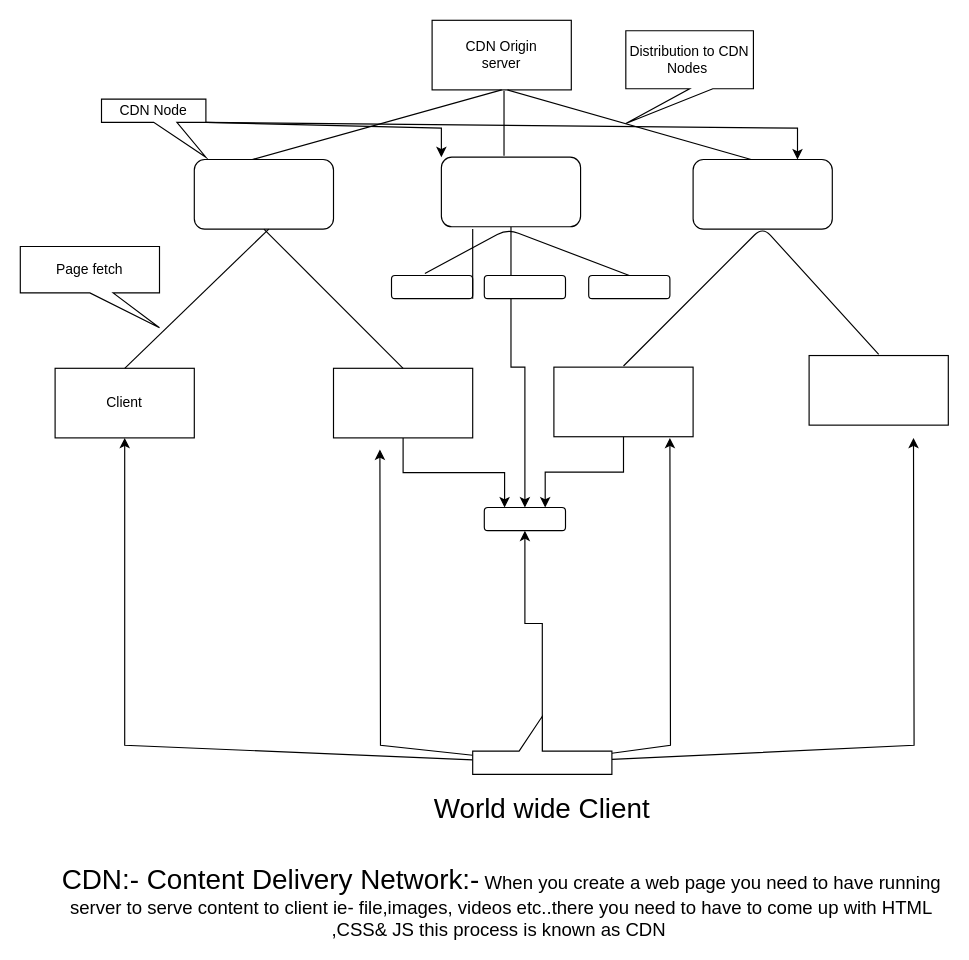
This 969x960 diagram has some shape labels left out. Each missing label, with the centre of its shape:
"Amsterdam server" goes at point 263,193.
"European Server" goes at point 510,191.
"Sydney Server" goes at point 762,193.
